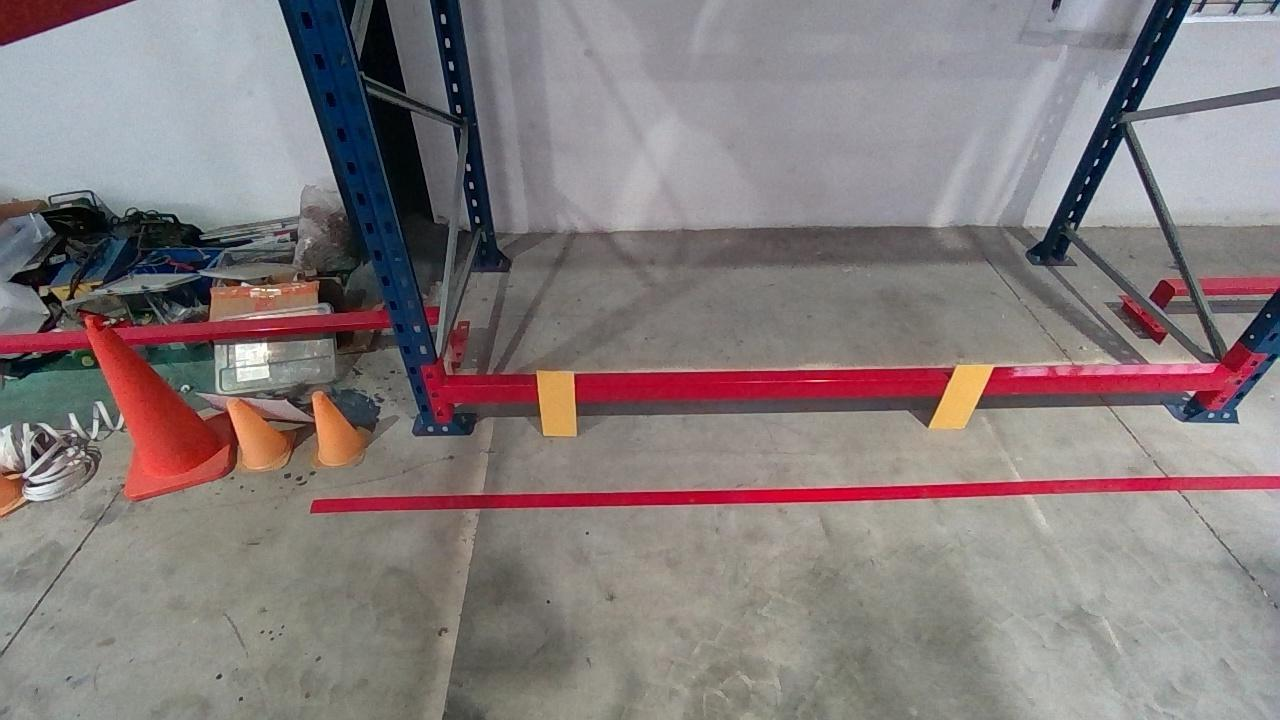h_rack: (447, 372, 1228, 403)
orange_strip: (928, 363, 997, 428), (536, 371, 578, 435)
red_line: (307, 474, 1274, 510)
